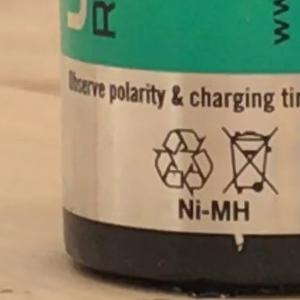NI-MH: (169, 191, 259, 230)
